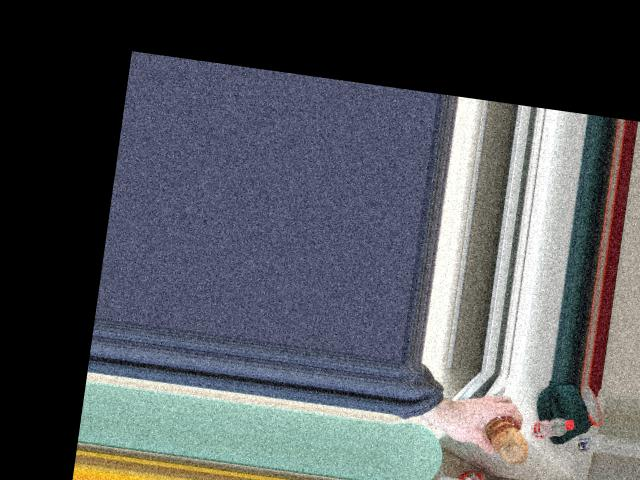sweet_potato: (478, 415, 530, 463)
